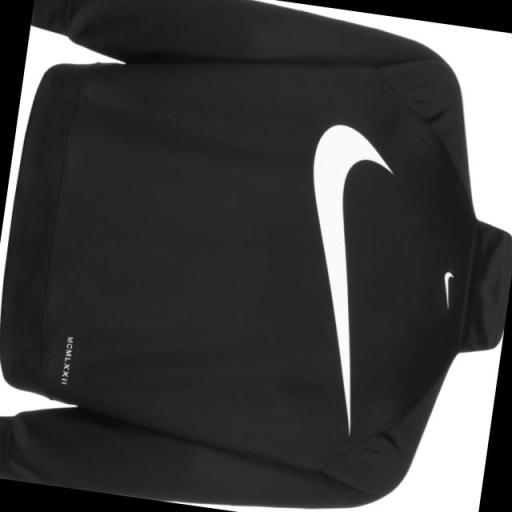Nike: (269, 116, 401, 446)
